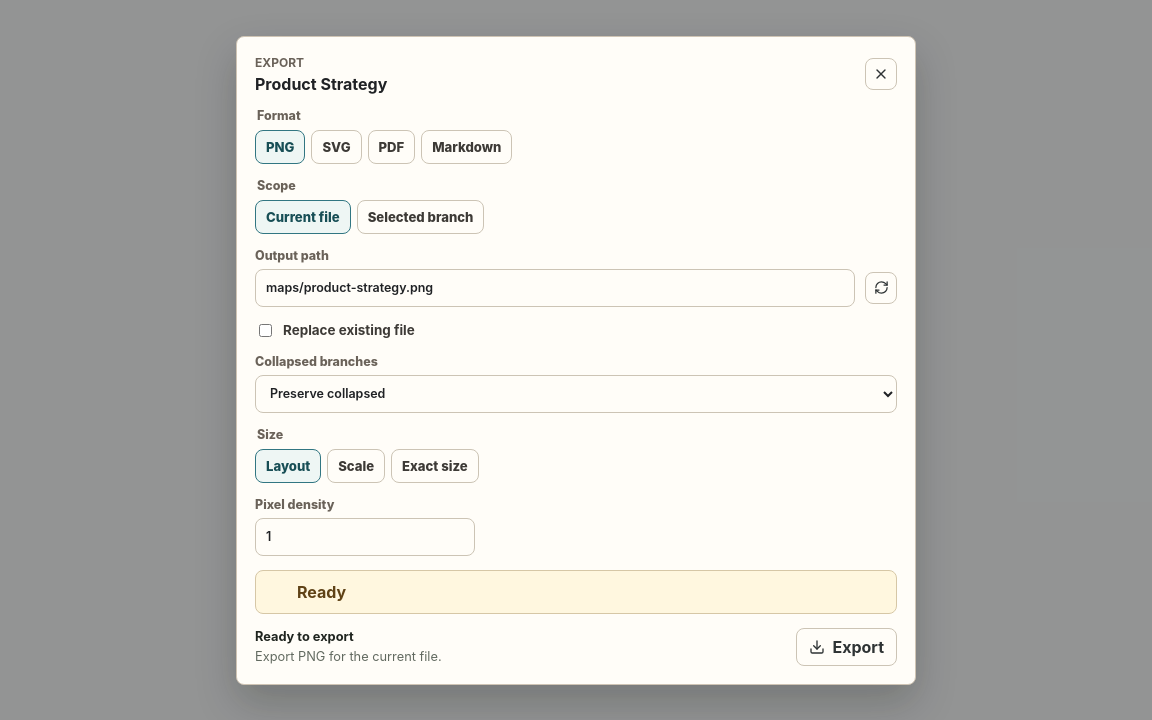
Test: ExportDialog › submits svg current_file exports through the Tauri command boundary
The width and height of the screenshot is (1152, 720).
Click the radio button labelled "SVG" at x=337, y=146, box [312, 130, 362, 164]
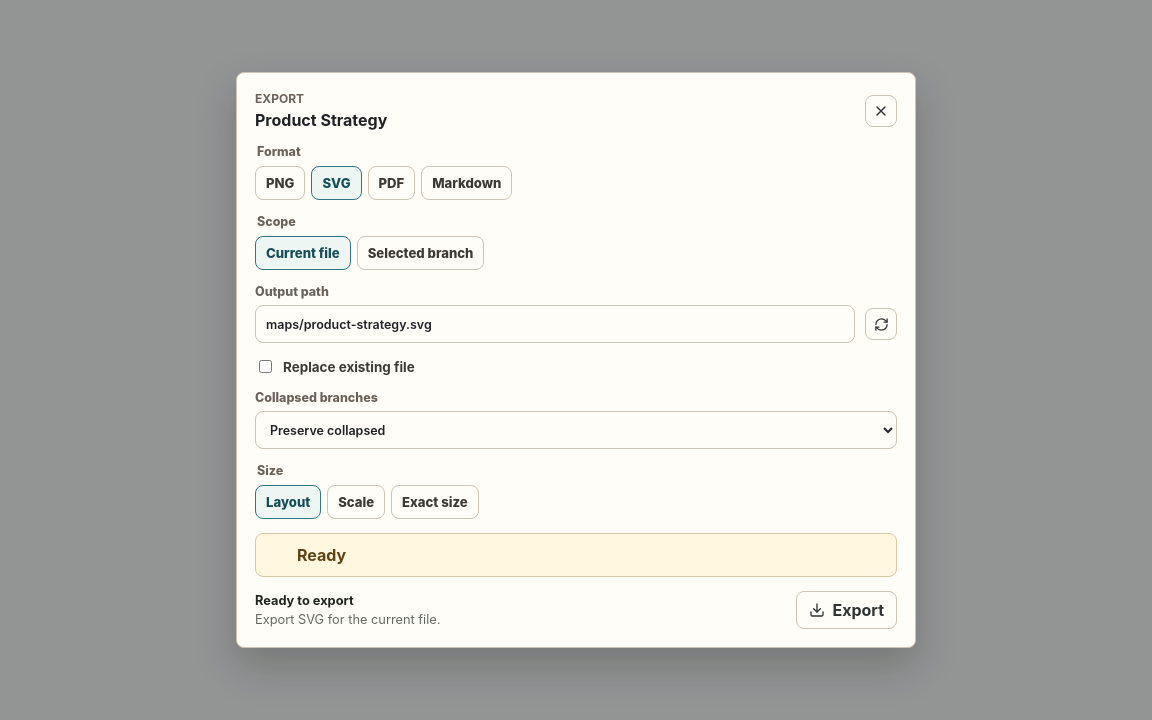
Click the button "Export" at x=847, y=610, box [796, 591, 897, 629]
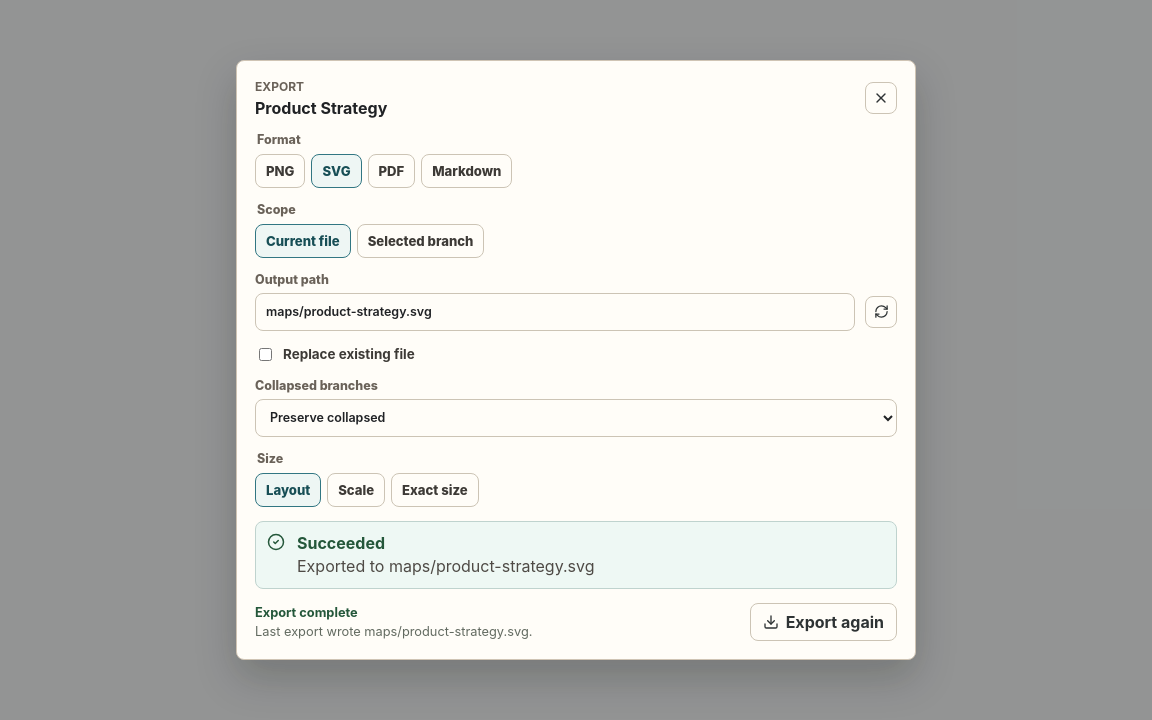
Check: the text "Succeeded" is shown, box [297, 533, 385, 553]
